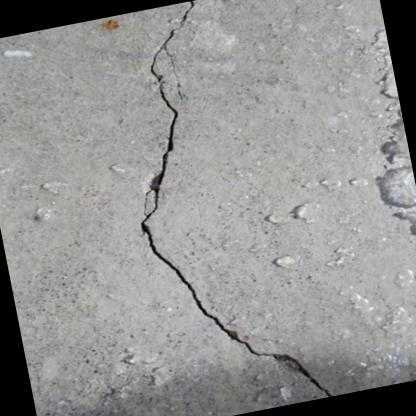crack: (137, 0, 336, 397)
